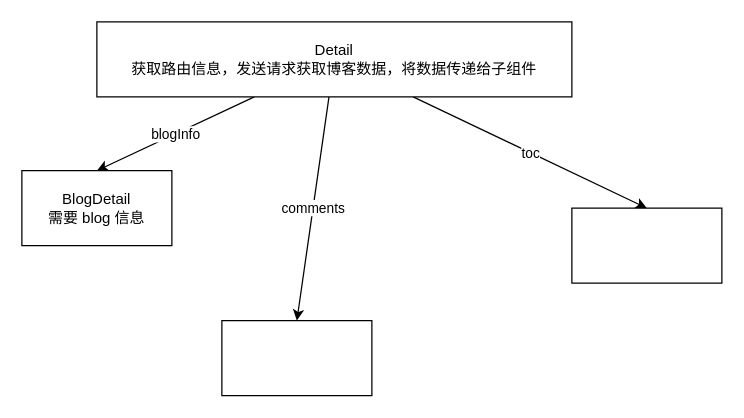
This 744x418 diagram has some shape labels left out. The shapes that lost their labels are listed below. From the top down, each one's box as (x1, y1, x2, y2) in pixels, then its label:
(571, 207, 722, 283): BlogTOC 需要 blog 目录信息
(221, 319, 372, 396): BlogComments 需要评论信息
